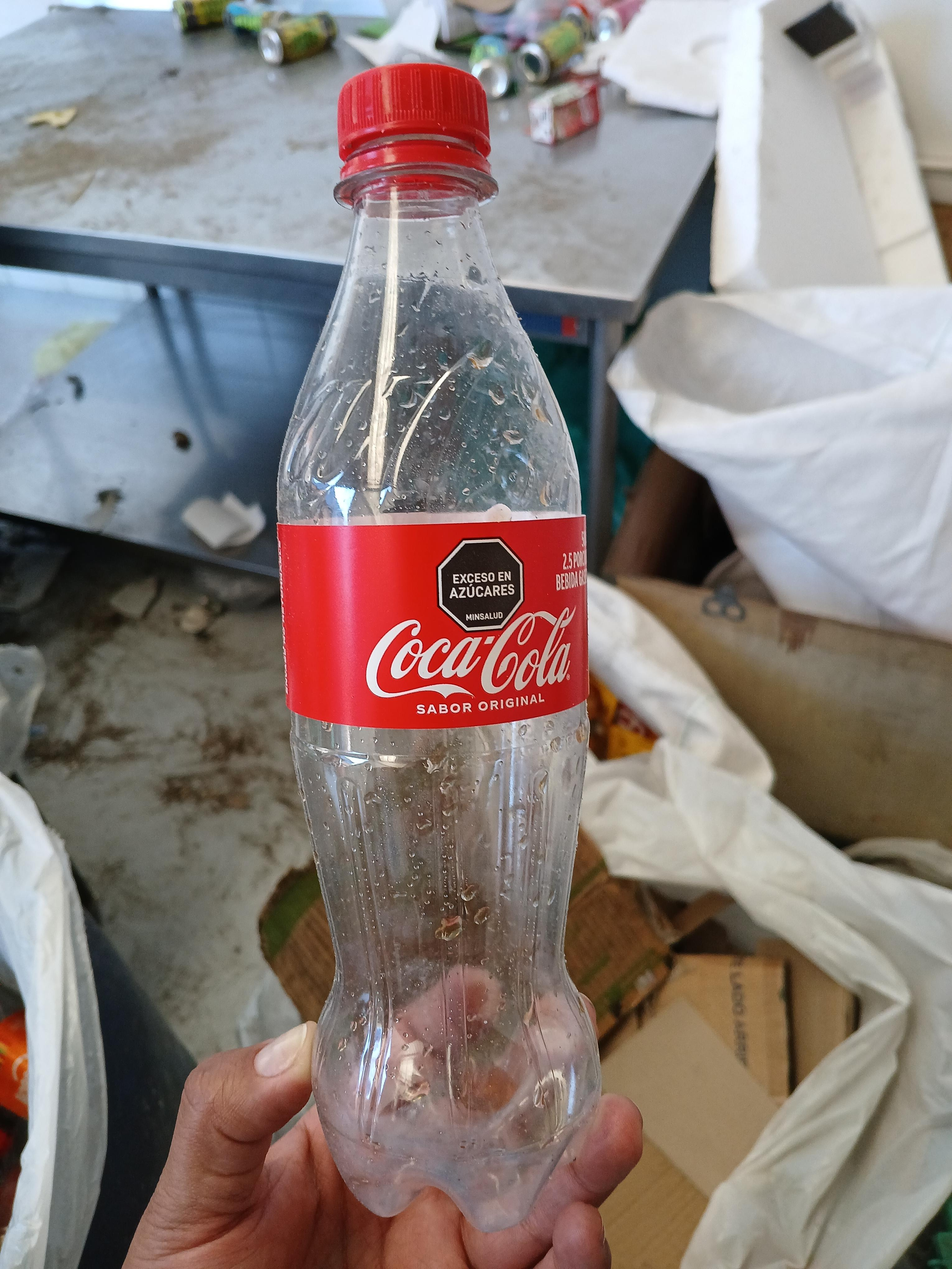Plastico: (278, 64, 597, 1230)
